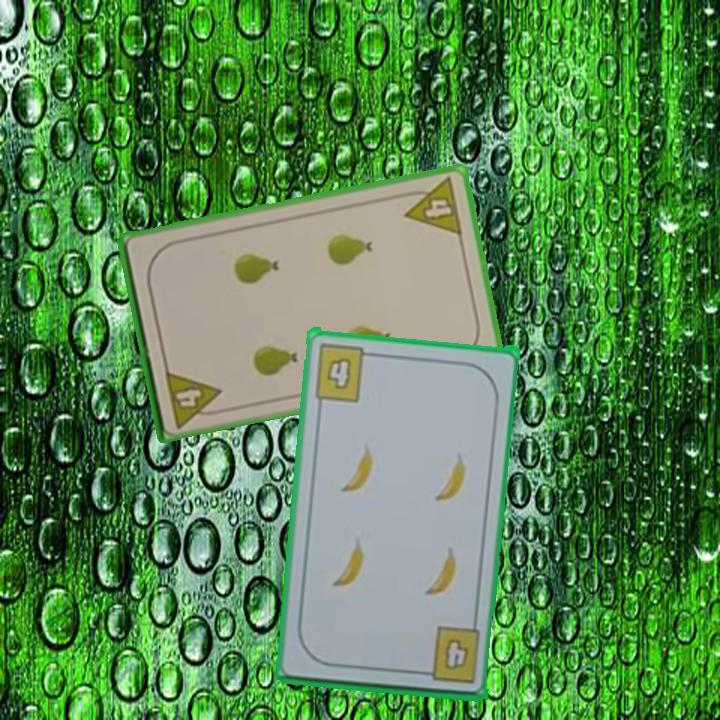4b: (310, 339, 378, 404), (415, 623, 483, 687)
4p: (397, 174, 465, 238), (161, 366, 227, 431)
